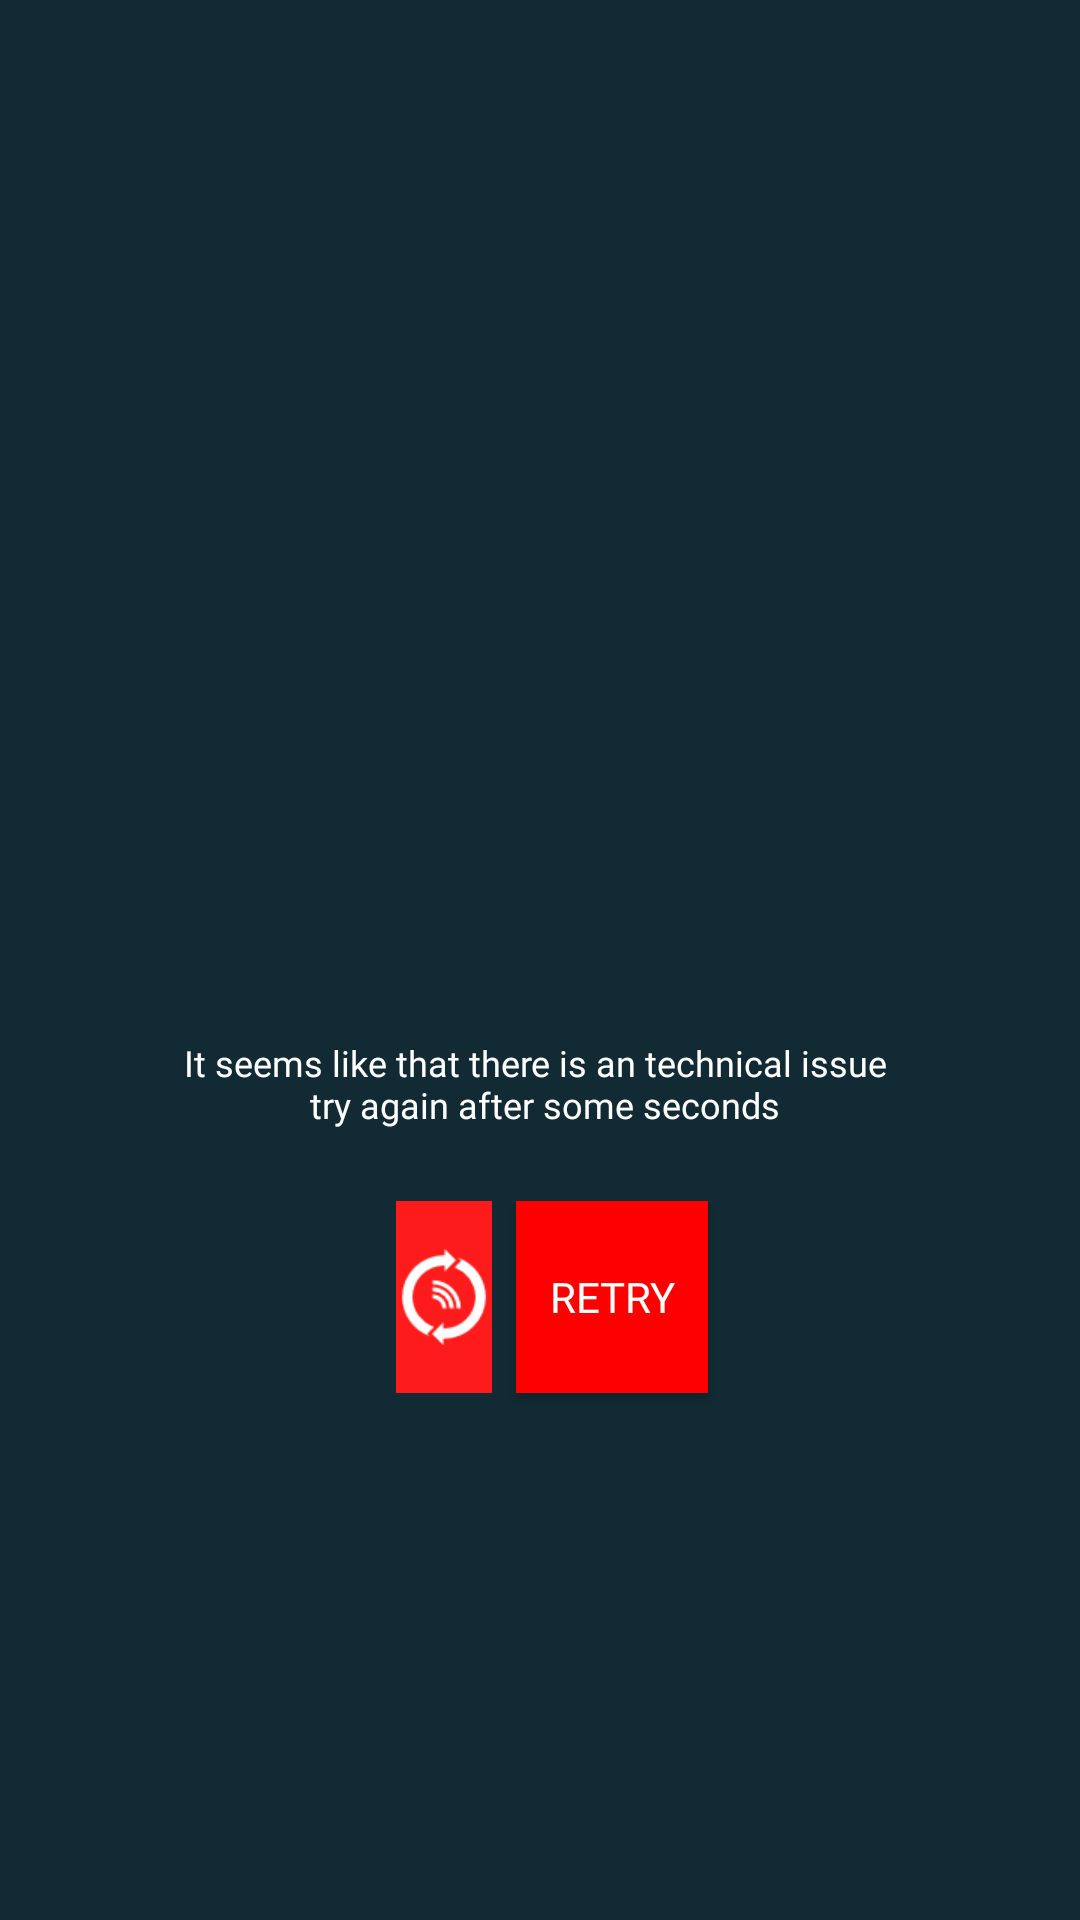

Locate icon controls on the screen. Image size 1080x1920, boxes as [x1,y1,x2,y2].
refresh: [401,1249,487,1345]
